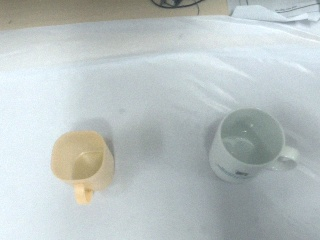cup: (206, 106, 299, 181), (49, 129, 118, 206)
